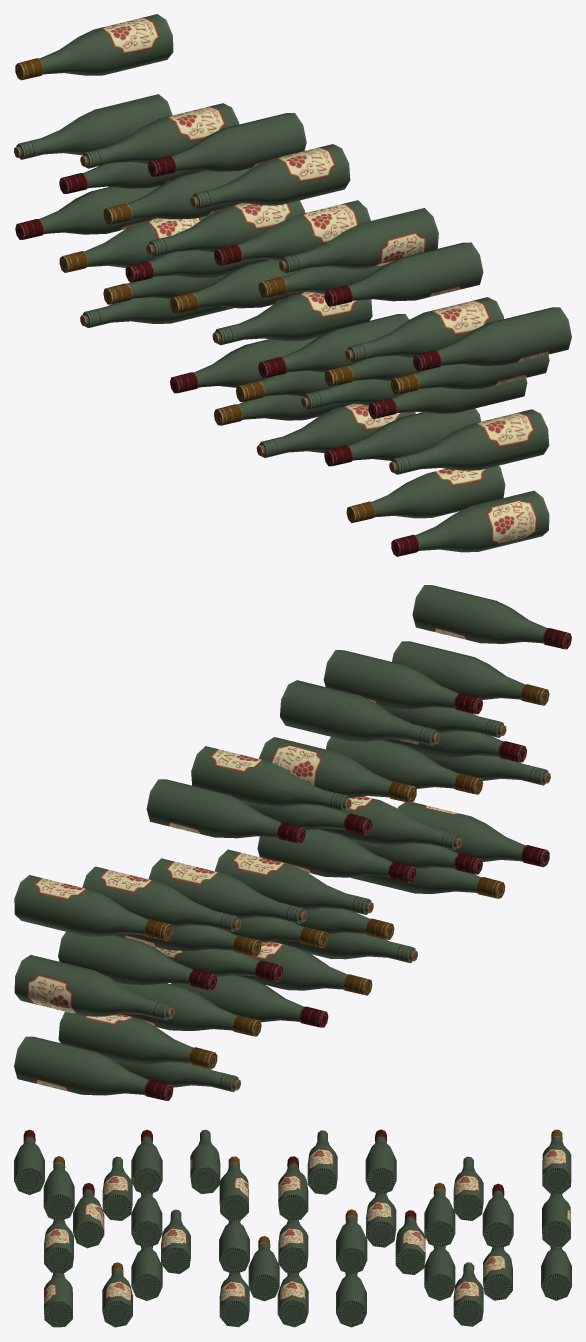
The model's file is LOD1_bottles_wineCabinet_1.fbx.
The picture shows the model from 3 angles, top to bottom: view 1: azimuth 30°, elevation 25°; view 2: azimuth 150°, elevation 25°; view 3: azimuth 270°, elevation 25°; orthographic projection. The views are drawn at different scales.
Visible parts, largest first — view 1: LOD1_bottles_wineCabinet_1; view 2: LOD1_bottles_wineCabinet_1; view 3: LOD1_bottles_wineCabinet_1.
Part boxes in pixels (box(x1,y1,x2,y2)): LOD1_bottles_wineCabinet_1: box(14, 14, 571, 556); LOD1_bottles_wineCabinet_1: box(14, 585, 571, 1100); LOD1_bottles_wineCabinet_1: box(14, 1129, 571, 1327).
Size of the model in its own units: 0.3339 by 0.5302 by 1.67.
